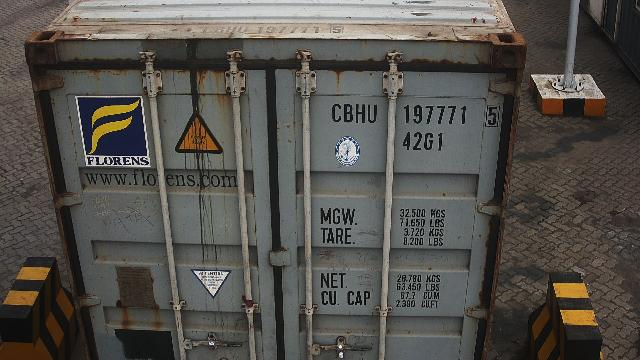1: (459, 106, 466, 126), (404, 104, 410, 124)
5: (486, 106, 500, 127)
7: (436, 105, 446, 125), (448, 105, 457, 125), (426, 105, 434, 125)
9: (413, 105, 422, 125)
B: (344, 103, 354, 123)
C: (332, 103, 342, 122)
H: (355, 104, 365, 124)
U: (367, 104, 377, 124)
